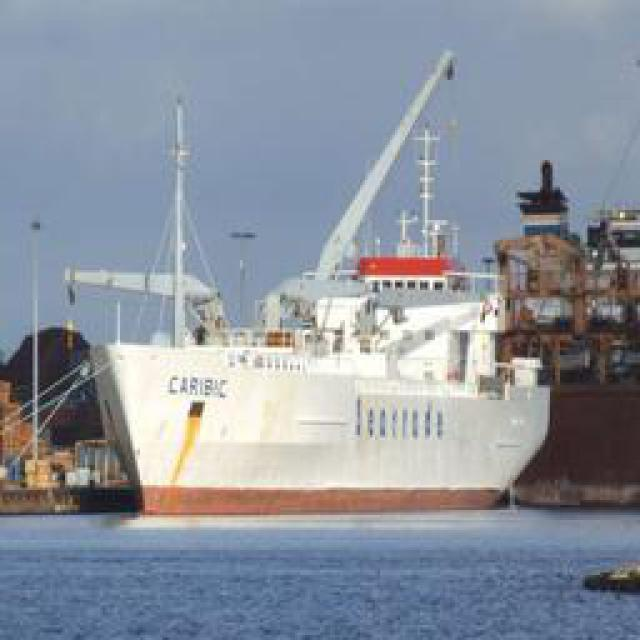Ship: (32, 41, 575, 509)
